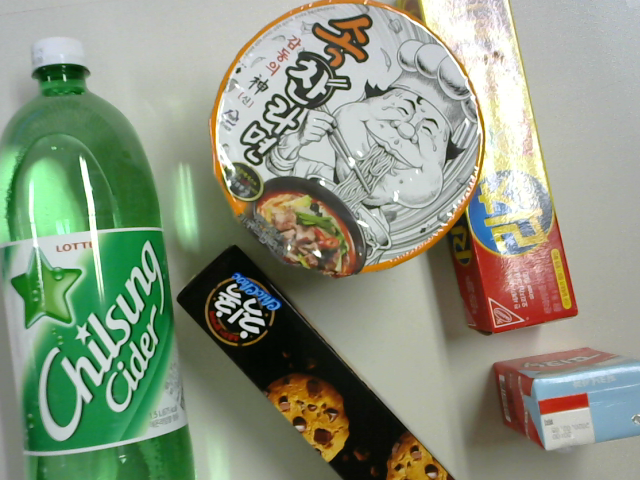Chicchok_Original_2400: (176, 240, 460, 480)
Chilseong_Cider_1.5L: (1, 24, 203, 480)
Hejangchan: (205, 1, 489, 287)
Picnic_Apple: (488, 333, 640, 461)
Ritz_Remon_96g: (394, 1, 581, 342)
